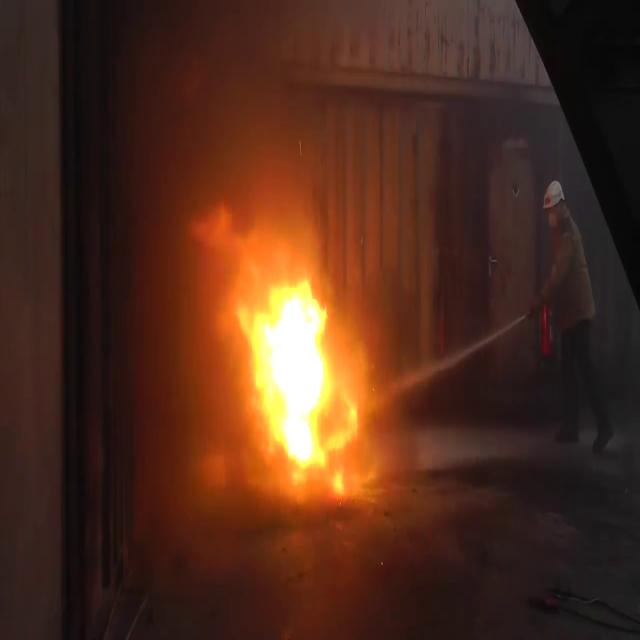Fire: (239, 265, 346, 477)
Smoke: (122, 0, 389, 325)
